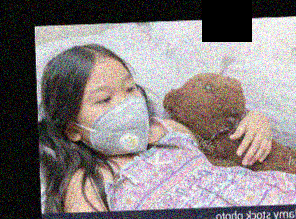with_mask: (74, 73, 150, 155)
